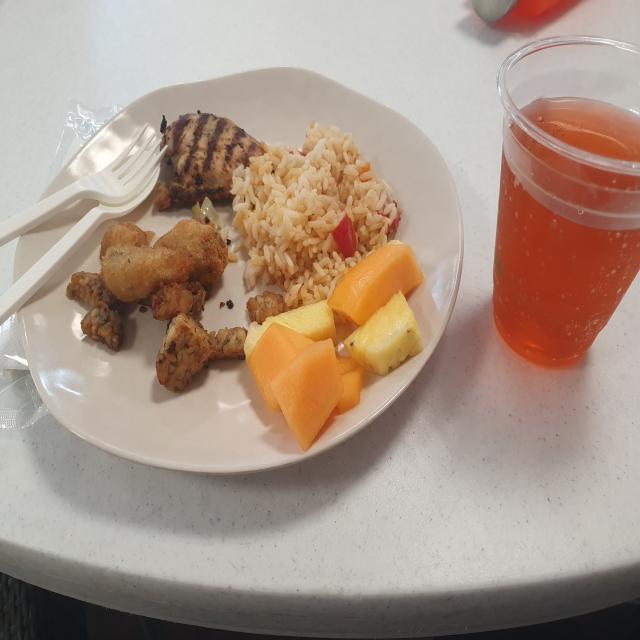Cup: (491, 35, 640, 369)
Plate: (13, 65, 464, 475)
